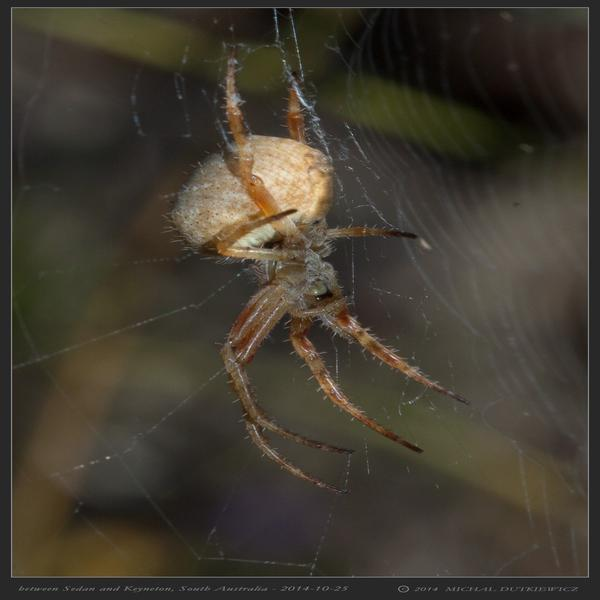Garden Orb Weaver Spider: (178, 60, 470, 490)
